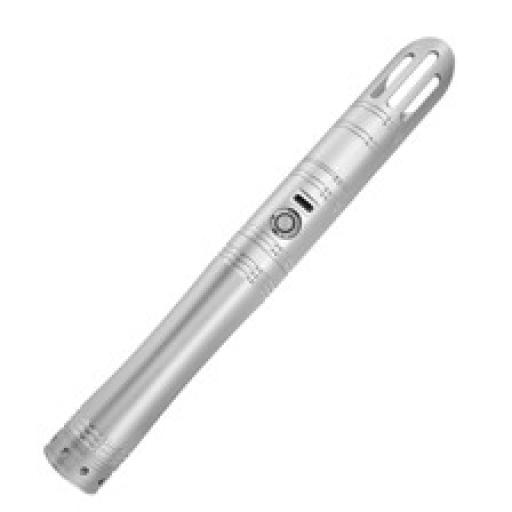lightsaber: (42, 32, 457, 494)
